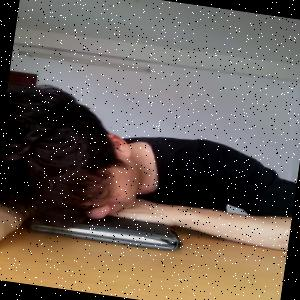sleep: (1, 79, 300, 252)
